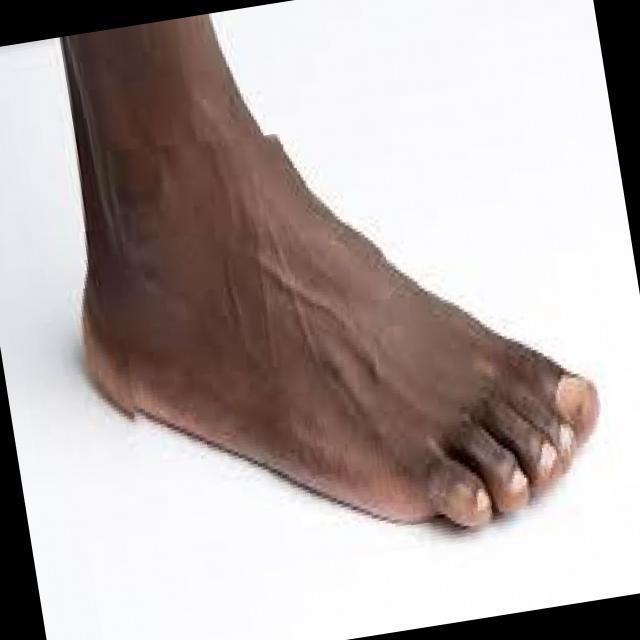No_Shoes: (36, 139, 616, 537)
